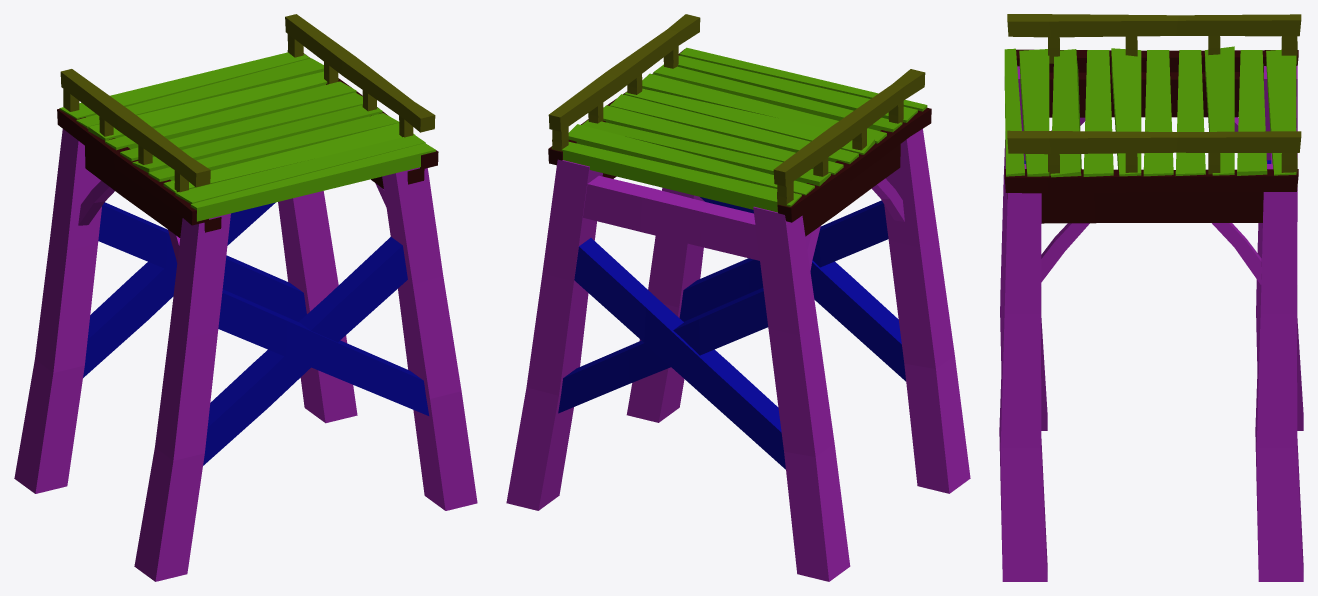
3 views of the same model, side by side, from view 1: azimuth 30°, elevation 25°; view 2: azimuth 150°, elevation 25°; view 3: azimuth 270°, elevation 25° (orthographic). The views are drawn at different scales.
Visible parts, largest first — view 1: Object002; view 2: Object002; view 3: Object002.
Part boxes in pixels (bbox=[...]): Object002: bbox=[14, 14, 477, 581]; Object002: bbox=[506, 14, 970, 581]; Object002: bbox=[999, 14, 1303, 581].
Bounding box in the file's own units: 824 × 970 × 632.
